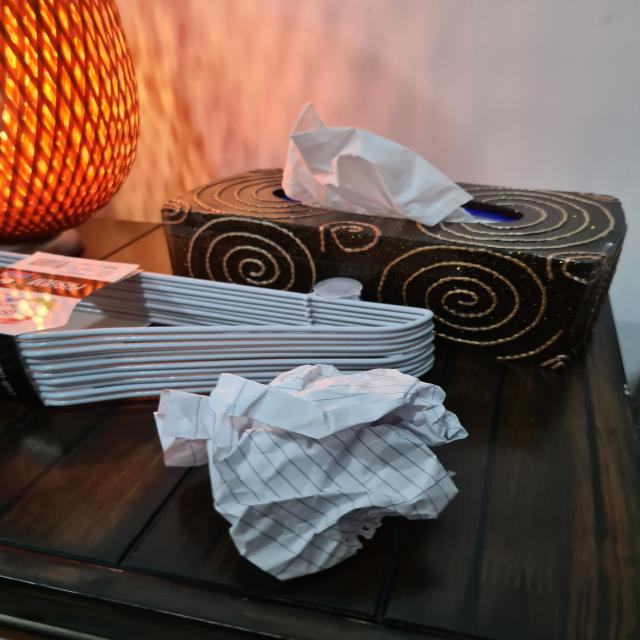Paper: (158, 370, 467, 578)
